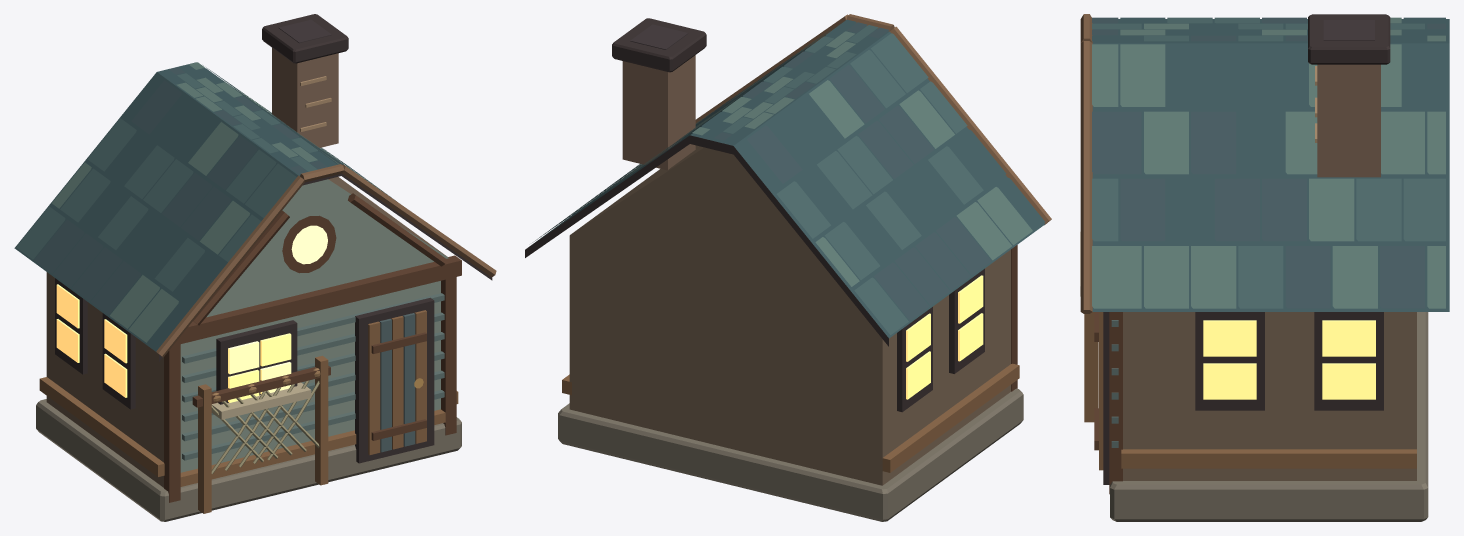
Rendered from net_cottage.glb.
3 renders of one model, left to right at view 1: azimuth 30°, elevation 25°; view 2: azimuth 150°, elevation 25°; view 3: azimuth 270°, elevation 25°, orthographic. The views are drawn at different scales.
Parts seen in each view (by area): view 1: Masonry and joinery; view 2: Masonry and joinery; view 3: Masonry and joinery.
Boxes of the visible parts, x1,y1,x2,y2 form: Masonry and joinery: (14,14,496,521); Masonry and joinery: (525,14,1051,521); Masonry and joinery: (1080,14,1449,521).
Bounding box in the file's own units: 2.37 × 2.44 × 1.8.
